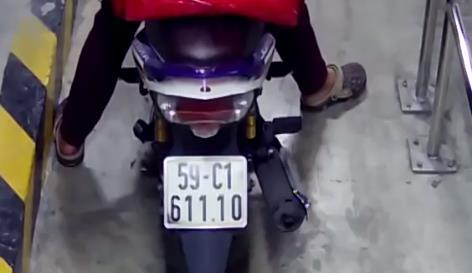lisence: (164, 156, 248, 229)
